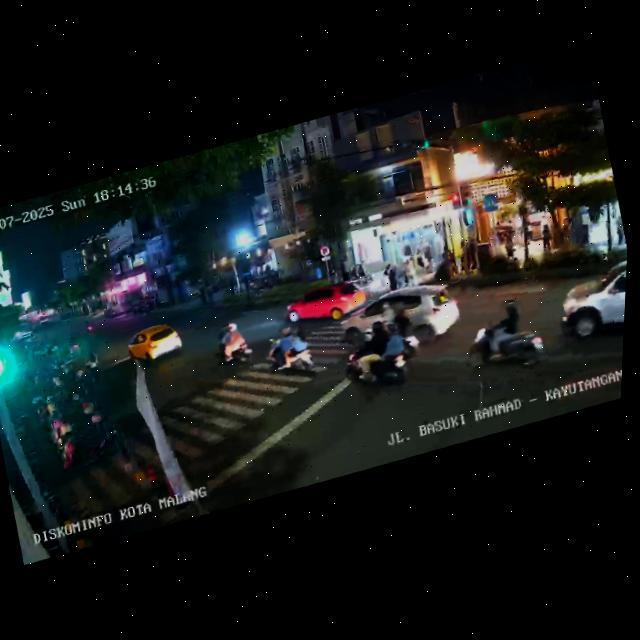car: (333, 275, 465, 369), (550, 262, 627, 366), (280, 270, 373, 337), (123, 316, 189, 372)
motorcycle: (332, 307, 425, 403), (459, 292, 553, 385), (256, 318, 324, 391), (209, 315, 256, 375)
person: (78, 347, 108, 393), (536, 221, 556, 256), (502, 231, 520, 266), (611, 212, 628, 247), (381, 260, 399, 292), (399, 255, 416, 287)
